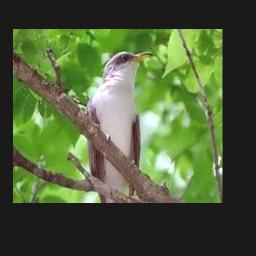Cuckoo: (85, 50, 152, 203)
